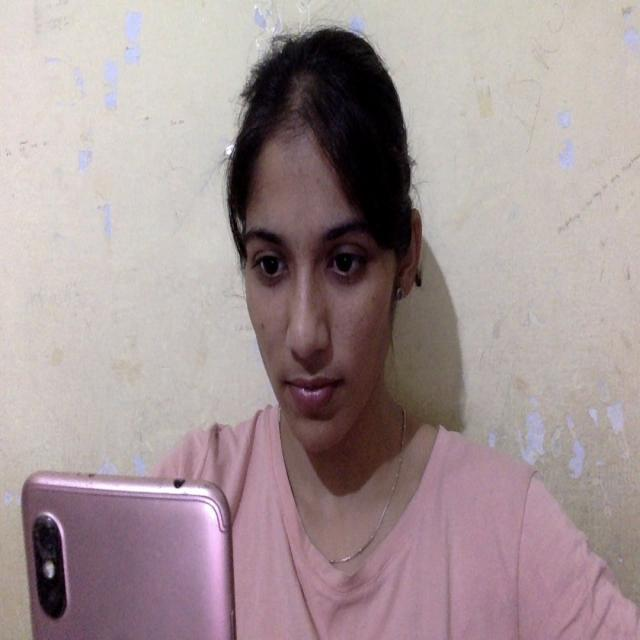Phone: (19, 469, 238, 639)
